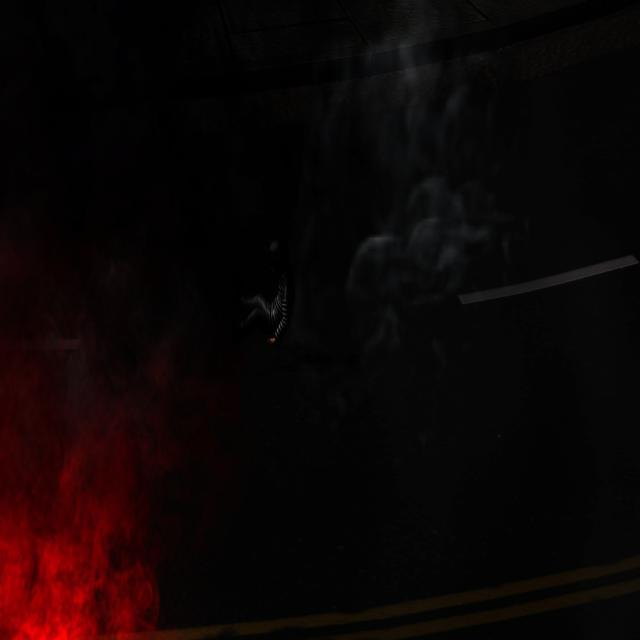Human: (227, 236, 293, 350)
